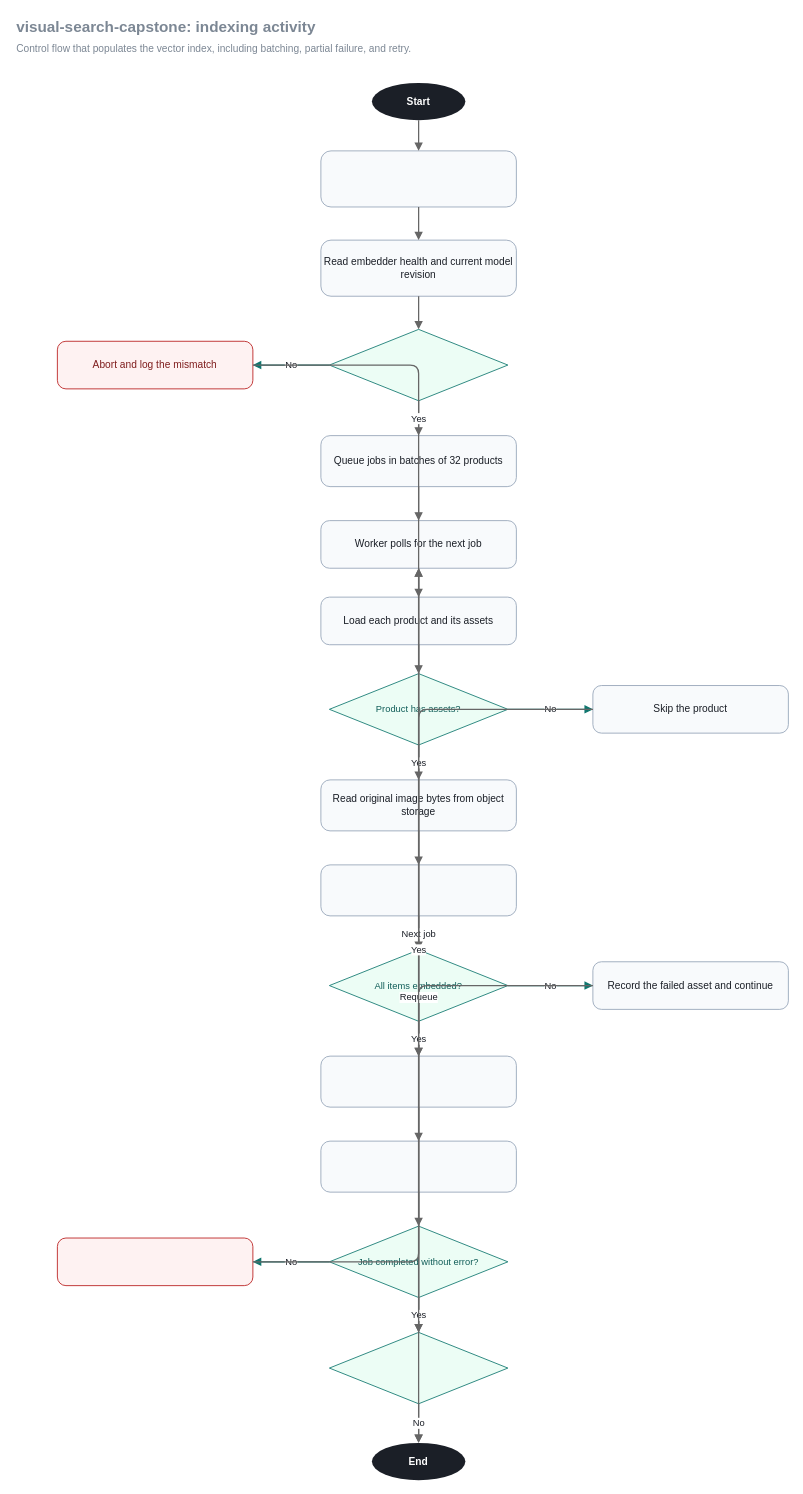
Image size: 803x1494. Some labels were removed from this diagram. Each missing label, with the box of its shape:
Delete the existing rows for each product: (320, 1055, 516, 1107)
Insert vectors stamped with revision and model id: (320, 1140, 516, 1192)
More jobs queued?: (329, 1332, 508, 1404)
Product event fires, or an administrator triggers a reindex: (320, 150, 516, 207)
Retry the job, up to twice: (57, 1237, 253, 1286)
Send up to 32 images to the embedding service: (320, 864, 516, 916)
Vector width matches the schema?: (329, 329, 508, 401)
